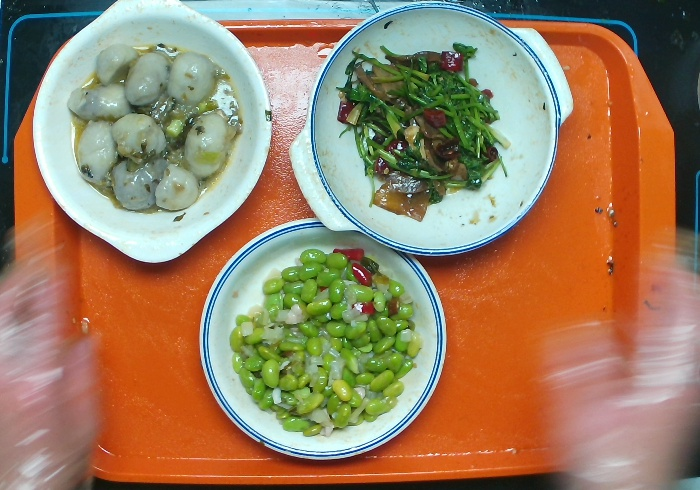HZYJPL-Dai_Er_Bai_Yuan_Wan: (27, 2, 274, 273)
HZYJPL-Lan_Bian_Dai_Er_Wan: (282, 1, 578, 271)
HZYJPL-Lan_Bian_Yuan_Die: (193, 215, 461, 469)
